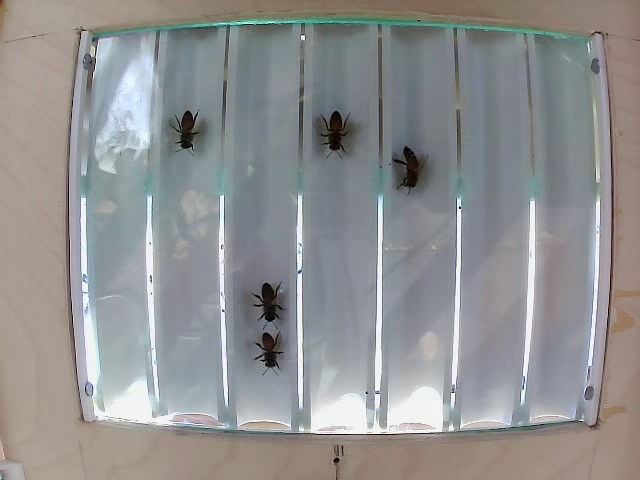bee: (390, 145, 430, 196), (169, 105, 203, 161), (319, 109, 351, 164), (253, 280, 288, 328), (254, 326, 287, 375)
